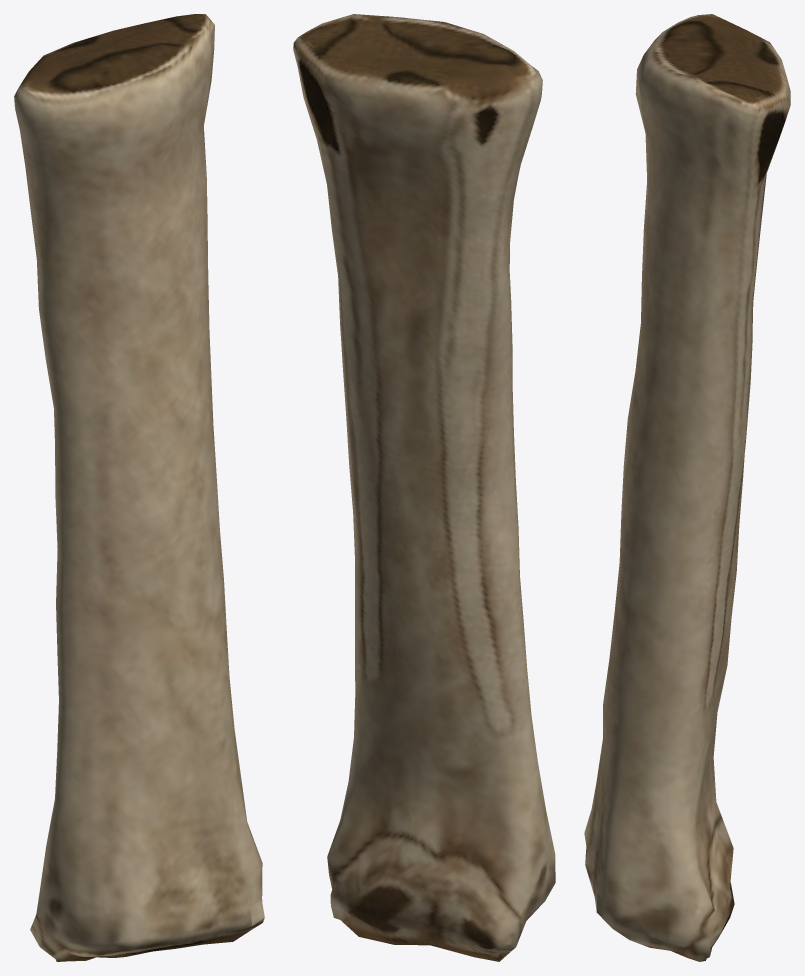
File: Cannon.glb
The picture shows the model from 3 angles, left to right: view 1: azimuth 30°, elevation 25°; view 2: azimuth 150°, elevation 25°; view 3: azimuth 270°, elevation 25°; orthographic projection. The views are drawn at different scales.
Parts seen in each view (by area): view 1: L_Frt_Cannon; view 2: L_Frt_Cannon; view 3: L_Frt_Cannon.
Boxes of the visible parts, bbox=[...] form: L_Frt_Cannon: bbox=[14, 14, 264, 961]; L_Frt_Cannon: bbox=[293, 14, 555, 961]; L_Frt_Cannon: bbox=[584, 14, 790, 961].
Size of the model in its own units: 0.0591 by 0.2356 by 0.0499.
1 material, 1 textured.
